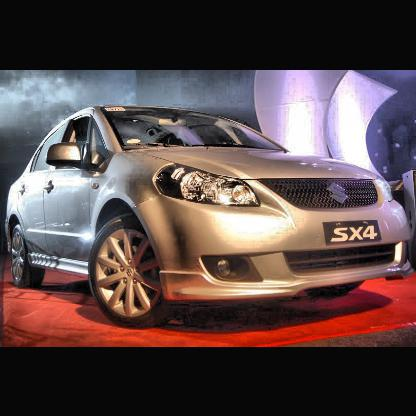Suzuki SX4 Sedan 2012: (4, 103, 414, 332)
